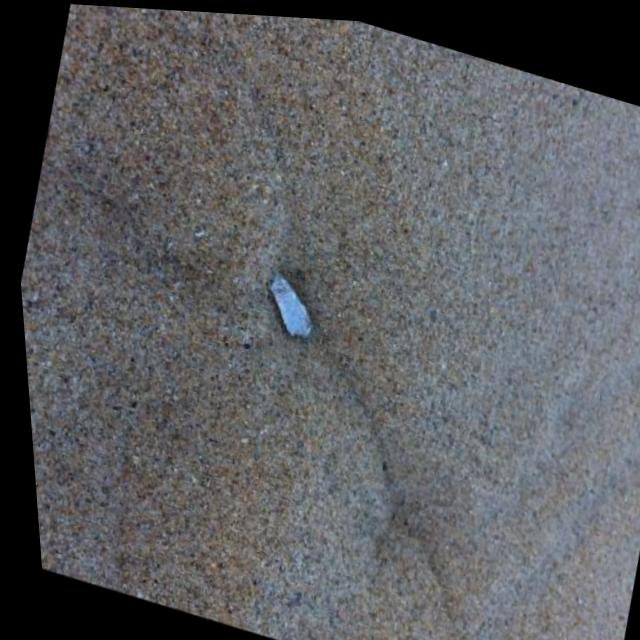metal: (260, 271, 324, 344)
